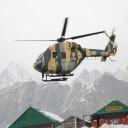helicopter: (19, 16, 120, 85)
